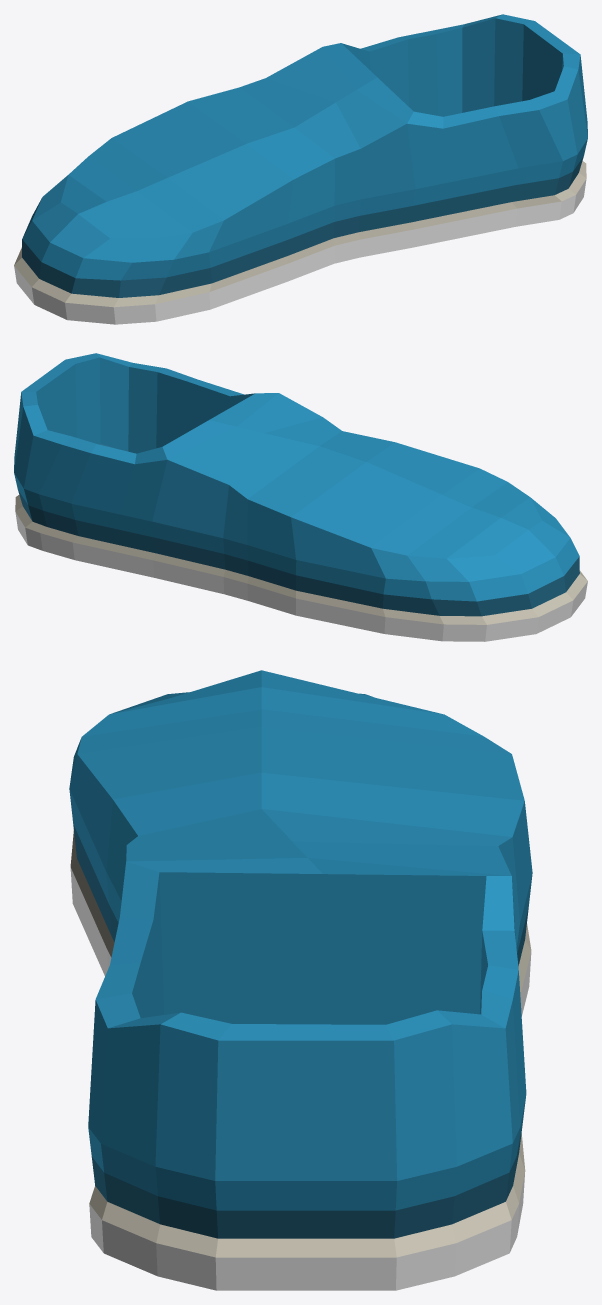
The model's file is shoe.glb.
The picture shows the model from 3 angles, top to bottom: view 1: azimuth 30°, elevation 25°; view 2: azimuth 150°, elevation 25°; view 3: azimuth 270°, elevation 25°; orthographic projection. The views are drawn at different scales.
Parts seen in each view (by area): view 1: Plane; view 2: Plane; view 3: Plane.
Part boxes in pixels (x1,y1,x2,y2): Plane: (14,14,587,324); Plane: (14,353,587,641); Plane: (69,670,532,1290).
Bounding box in the file's own units: 232 × 53.06 × 88.53.
1 material, 1 textured.
